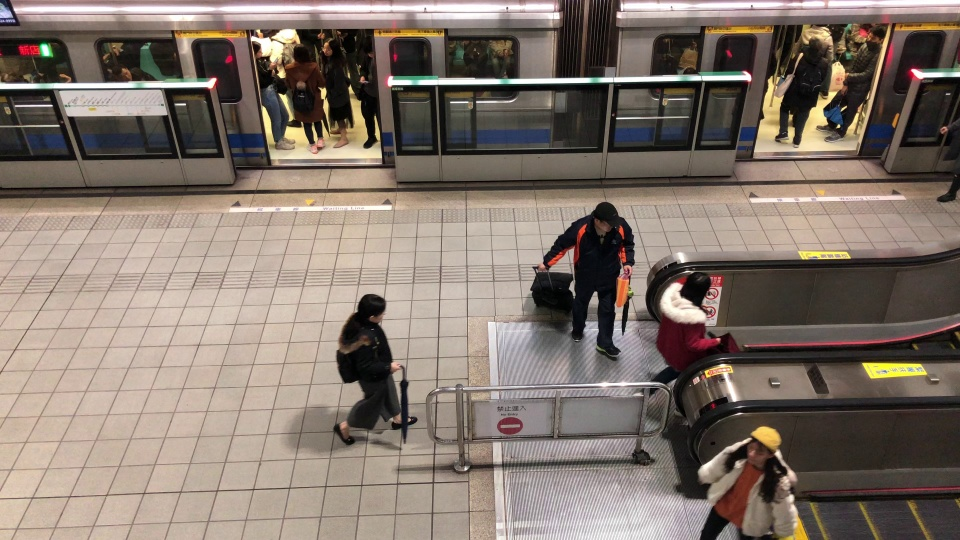person_head: (746, 423, 783, 471), (589, 201, 622, 239), (679, 271, 712, 308), (353, 292, 388, 325), (800, 36, 823, 59), (864, 25, 887, 48), (320, 38, 341, 59), (291, 43, 309, 67), (353, 49, 371, 72), (248, 39, 266, 60), (267, 25, 283, 37)
person_vbox: (533, 200, 638, 362), (322, 292, 419, 442), (693, 422, 801, 540), (634, 271, 725, 406), (813, 24, 890, 143), (764, 36, 830, 148), (243, 38, 296, 156), (287, 48, 330, 154), (317, 38, 356, 151), (261, 24, 303, 128), (351, 49, 385, 151), (935, 98, 960, 207)
